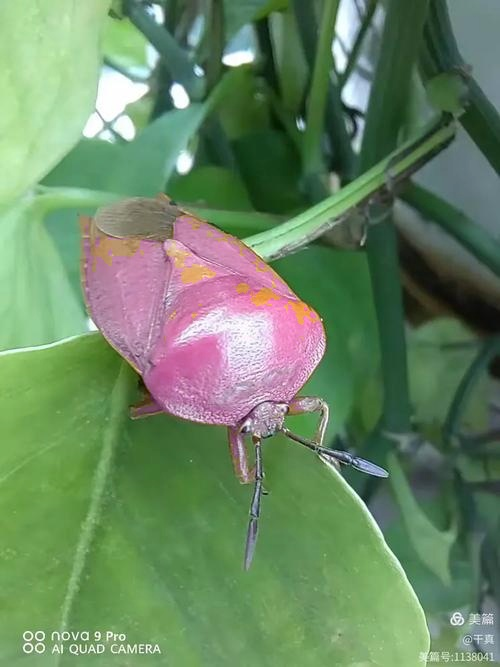Stink_Bug: (82, 186, 338, 432)
